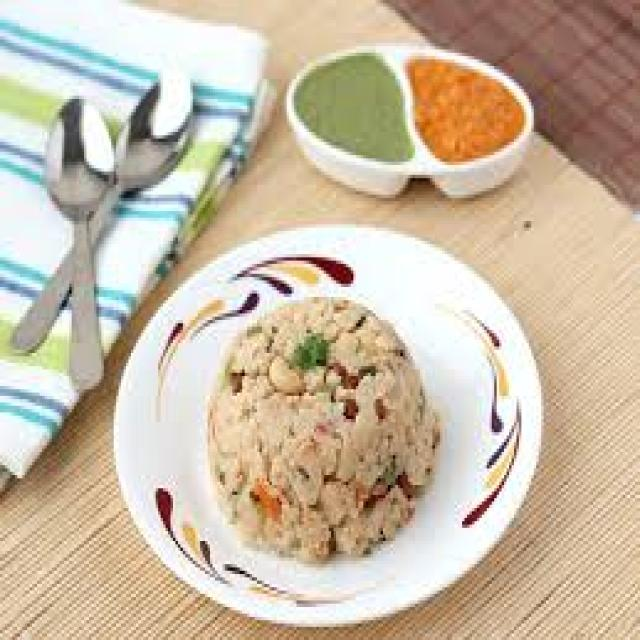UPMA: (203, 297, 440, 554)
